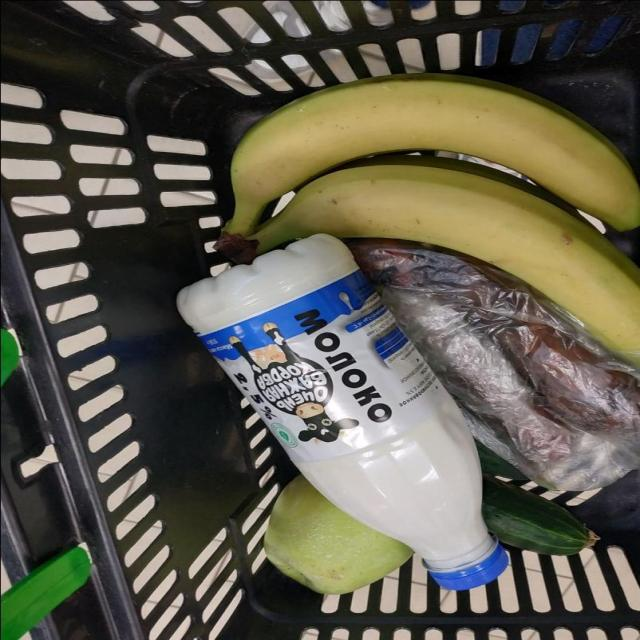Apple: (263, 476, 413, 594)
Banana: (247, 164, 640, 365), (223, 73, 640, 236)
Cucumber: (481, 477, 599, 555)
Milk: (178, 236, 507, 588)
